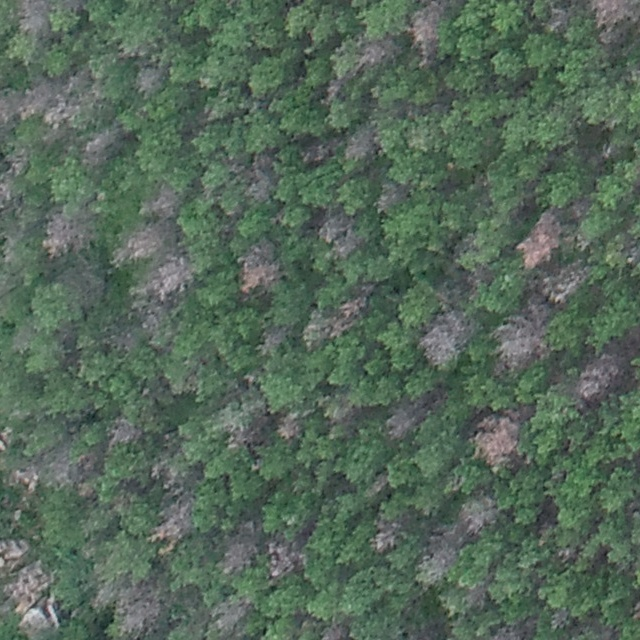unhealthy: (303, 292, 371, 348), (488, 314, 552, 372), (419, 308, 474, 367), (117, 574, 165, 635), (514, 211, 564, 269), (409, 0, 451, 69), (470, 413, 522, 465), (224, 152, 276, 203), (577, 351, 629, 401), (41, 210, 97, 256), (414, 525, 458, 583), (584, 0, 640, 45), (131, 263, 196, 300), (148, 501, 193, 553), (109, 230, 175, 265), (225, 399, 268, 449), (63, 65, 102, 120), (237, 241, 277, 293), (57, 267, 104, 308), (354, 33, 403, 70), (80, 129, 125, 167), (539, 268, 589, 302), (138, 184, 182, 222), (152, 456, 196, 494), (459, 495, 499, 536), (22, 75, 59, 119), (344, 120, 382, 162), (211, 599, 251, 638), (221, 532, 255, 573), (14, 0, 50, 36), (264, 538, 299, 575), (316, 208, 353, 242), (134, 66, 170, 100), (385, 406, 423, 438), (129, 300, 168, 329), (374, 180, 408, 213), (256, 325, 289, 358), (371, 519, 400, 553), (322, 395, 356, 423), (91, 575, 117, 610), (276, 409, 303, 439), (466, 581, 493, 611), (0, 89, 21, 127), (331, 238, 364, 260), (299, 143, 332, 165), (111, 419, 139, 444), (545, 7, 569, 32), (321, 622, 348, 640), (550, 606, 570, 630), (495, 624, 525, 640), (78, 484, 99, 501)
